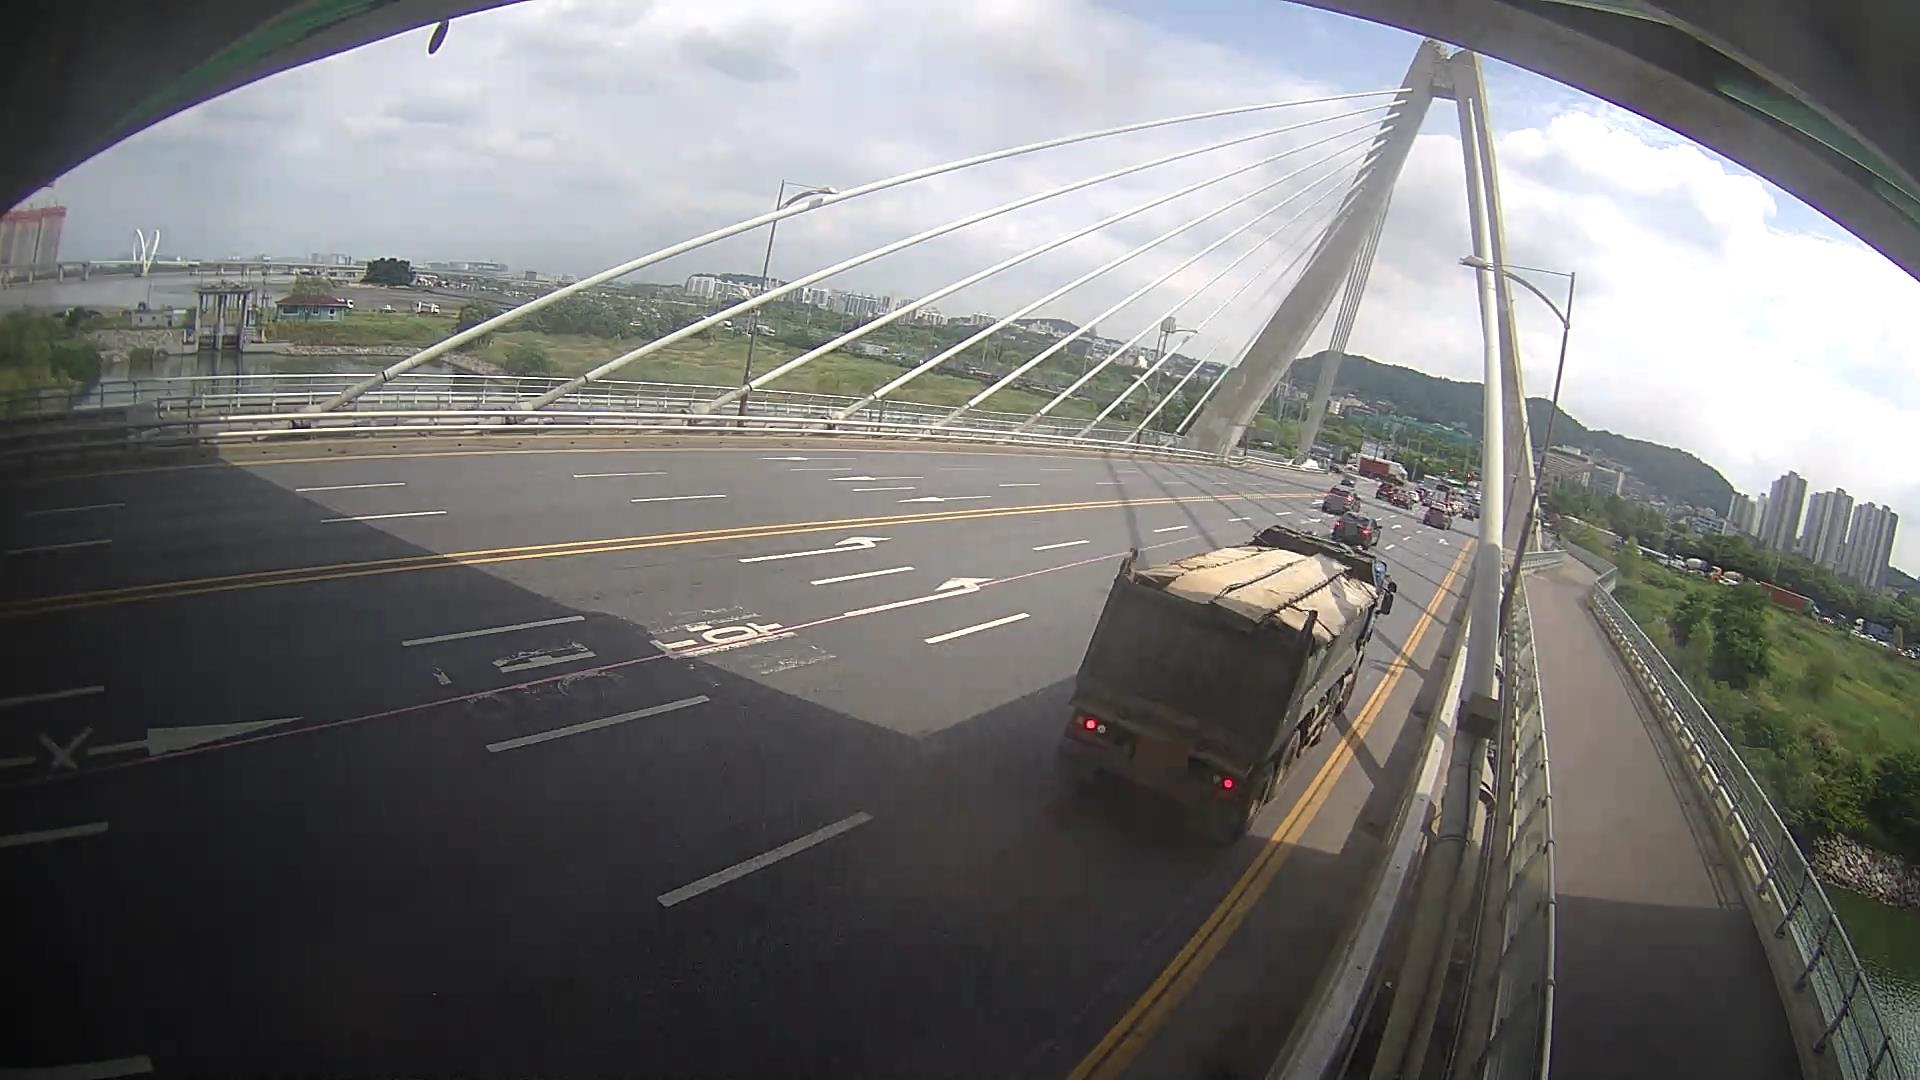정상차량: (1054, 524, 1398, 849)
